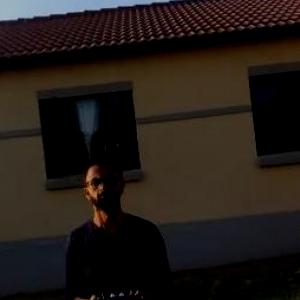follow: (58, 145, 182, 299)
